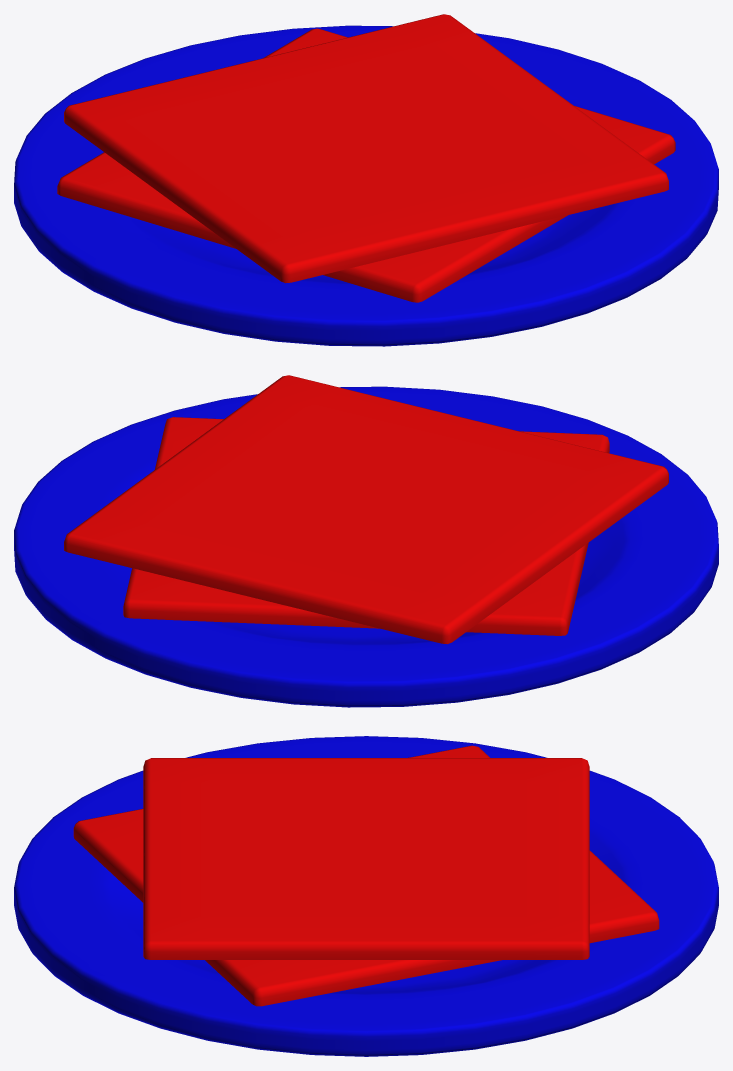
The model's file is nori_high.fbx.
3 renders of one model, top to bottom at view 1: azimuth 30°, elevation 25°; view 2: azimuth 150°, elevation 25°; view 3: azimuth 270°, elevation 25°, orthographic.
Parts seen in each view (by area): view 1: polySurface3, polySurface2, polySurface1; view 2: polySurface3, polySurface2, polySurface1; view 3: polySurface3, polySurface2, polySurface1.
Part boxes in pixels (x1,y1,x2,y2): polySurface3: (64, 14, 668, 283); polySurface2: (14, 25, 718, 346); polySurface1: (57, 28, 675, 302); polySurface3: (64, 375, 668, 644); polySurface2: (14, 386, 718, 707); polySurface1: (123, 417, 609, 635); polySurface3: (143, 758, 589, 959); polySurface2: (14, 736, 718, 1056); polySurface1: (73, 745, 659, 1006).
Bounding box in the file's own units: 0.4741 × 0.0448 × 0.4741.
